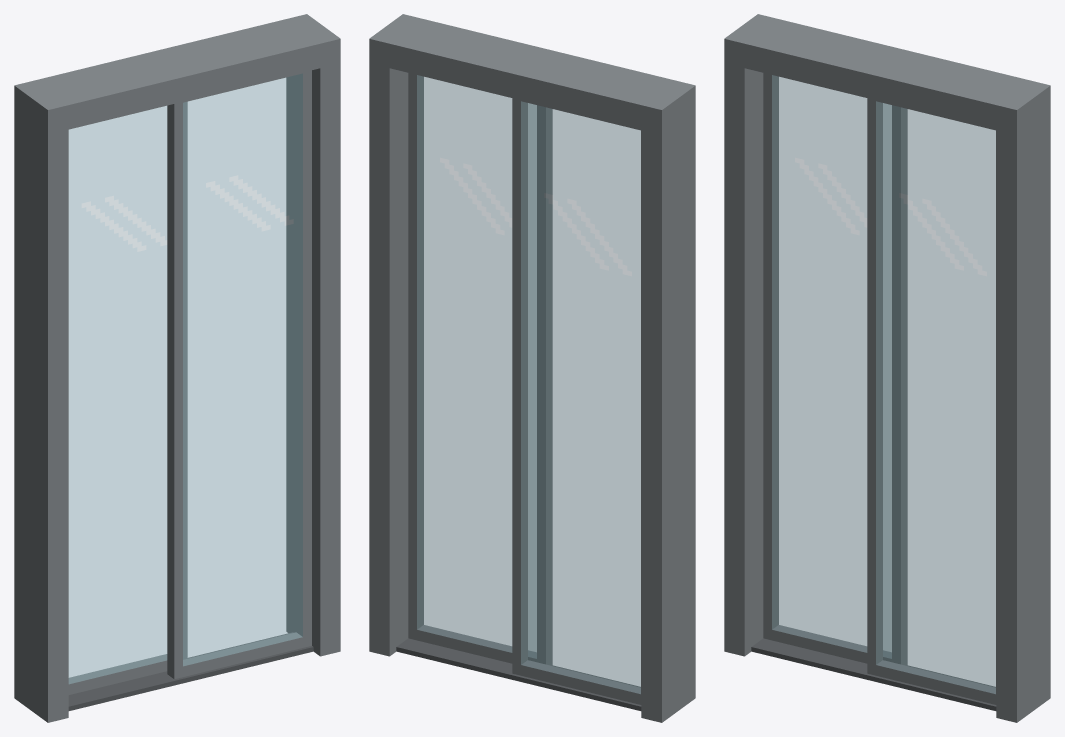
File: t_door_glass_c.glb
3 renders of one model, left to right at view 1: azimuth 30°, elevation 25°; view 2: azimuth 150°, elevation 25°; view 3: azimuth 330°, elevation 25°, orthographic.
Visible parts, largest first — view 1: block_slider-glass, block_fixed-glass, block_jamb-1, block_jamb1, block_head, block_slider-stile-0.04, block_slider-stile0.4, block_track, block_fixed-stile0.010000000000000002, block_slider-rail, block_fixed-rail; view 2: block_fixed-glass, block_slider-glass, block_jamb-1, block_jamb1, block_head, block_fixed-stile0.010000000000000002, block_slider-stile0.4, block_slider-stile-0.04, block_track, block_fixed-rail, block_slider-rail, block_fixed-stile-0.43; view 3: block_slider-glass, block_fixed-glass, block_jamb1, block_jamb-1, block_head, block_slider-stile-0.04, block_fixed-stile-0.43, block_fixed-stile0.010000000000000002, block_track, block_slider-rail, block_fixed-rail, block_slider-stile0.4.
Part boxes in pixels (x1,y1,x2,y2): block_slider-glass: (183, 73, 302, 666); block_fixed-glass: (68, 106, 167, 684); block_jamb-1: (14, 80, 68, 722); block_jamb1: (286, 14, 340, 656); block_head: (35, 19, 320, 129); block_slider-stile-0.04: (167, 102, 182, 678); block_slider-stile0.4: (296, 70, 311, 647); block_track: (68, 632, 313, 710); block_fixed-stile0.010000000000000002: (183, 102, 187, 659); block_slider-rail: (167, 632, 311, 679); block_fixed-rail: (68, 654, 186, 694); block_fixed-glass: (521, 101, 640, 693); block_slider-glass: (417, 75, 536, 658); block_jamb-1: (641, 80, 695, 722); block_jamb1: (369, 14, 422, 656); block_head: (389, 19, 674, 129); block_fixed-stile0.010000000000000002: (512, 98, 527, 675); block_slider-stile0.4: (408, 73, 423, 640); block_slider-stile-0.04: (537, 105, 552, 665); block_track: (396, 638, 641, 710); block_fixed-rail: (521, 660, 641, 704); block_slider-rail: (408, 625, 551, 665); block_fixed-stile-0.43: (641, 131, 641, 704); block_slider-glass: (876, 101, 995, 693); block_fixed-glass: (772, 75, 891, 658); block_jamb1: (996, 80, 1050, 722); block_jamb-1: (724, 14, 777, 656); block_head: (744, 19, 1029, 129); block_slider-stile-0.04: (867, 98, 882, 675); block_fixed-stile-0.43: (763, 73, 778, 640); block_fixed-stile0.010000000000000002: (892, 105, 907, 665); block_track: (751, 638, 996, 710); block_slider-rail: (876, 660, 996, 704); block_fixed-rail: (763, 625, 906, 665); block_slider-stile0.4: (996, 131, 996, 704).
Bounding box in the file's own units: 1 × 2 × 0.2.
Materials: 2 (2 with a texture image).
